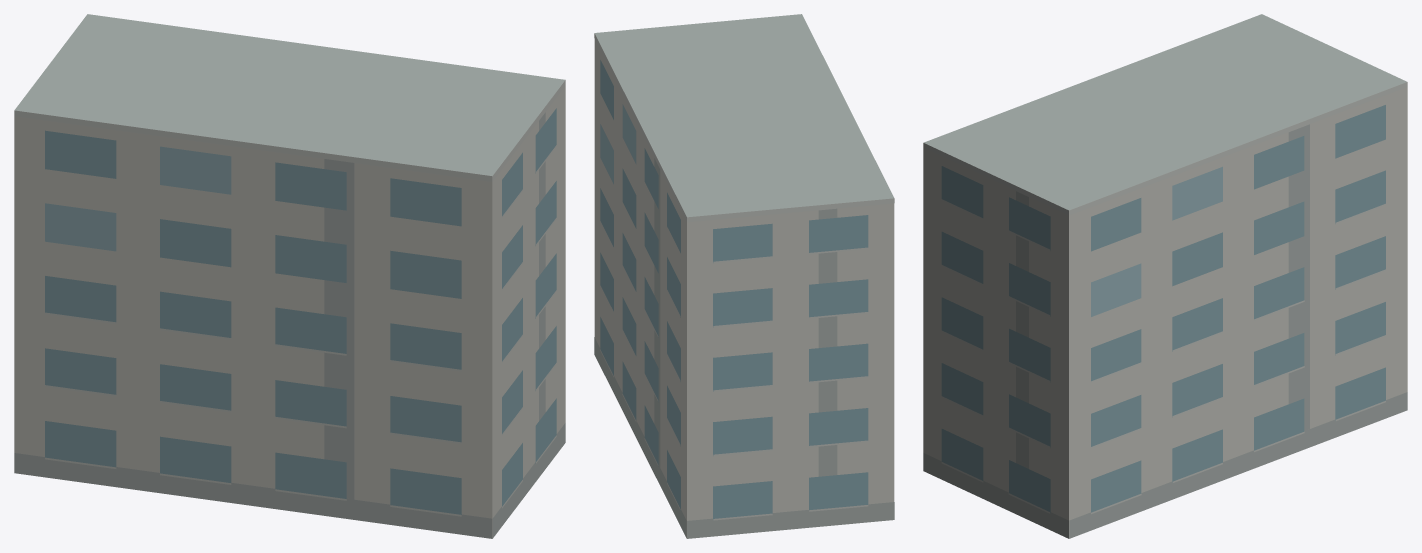
File: survey-upis-32582476.glb
3 renders of one model, left to right at view 1: azimuth 30°, elevation 25°; view 2: azimuth 150°, elevation 25°; view 3: azimuth 270°, elevation 25°, orthographic. The views are drawn at different scales.
Parts seen in each view (by area): view 1: survey-upis-32582476.tmp; view 2: survey-upis-32582476.tmp; view 3: survey-upis-32582476.tmp.
Boxes of the visible parts, x1,y1,x2,y2 form: survey-upis-32582476.tmp: [14, 14, 565, 538]; survey-upis-32582476.tmp: [594, 14, 894, 538]; survey-upis-32582476.tmp: [923, 14, 1407, 538].
Bounding box in the file's own units: 19.58 × 15.25 × 20.39.
